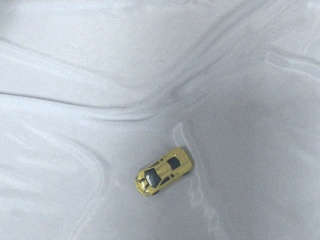toy_car: (136, 147, 193, 195)
